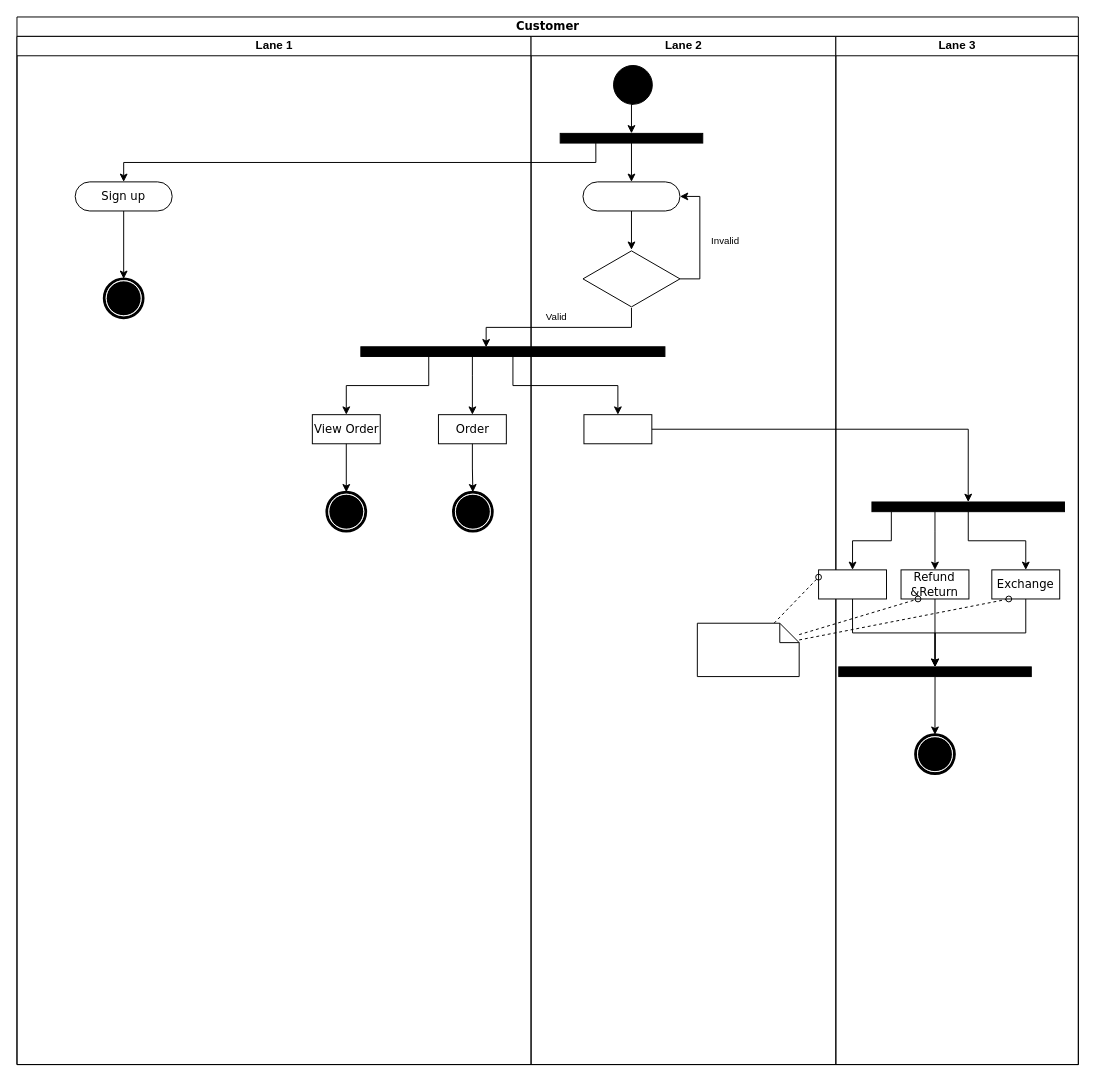
The diagram is 1096 pixels wide and 1082 high, and some of its shapes have lost their labels. Each missing label, with the centre of its shape:
"Account Confirm" belongs at (x=631, y=278).
"Log in" belongs at (x=631, y=196).
"Merge" belongs at (x=747, y=649).
"Refund" belongs at (x=852, y=584).
"Return /Replace" belongs at (x=617, y=429).
